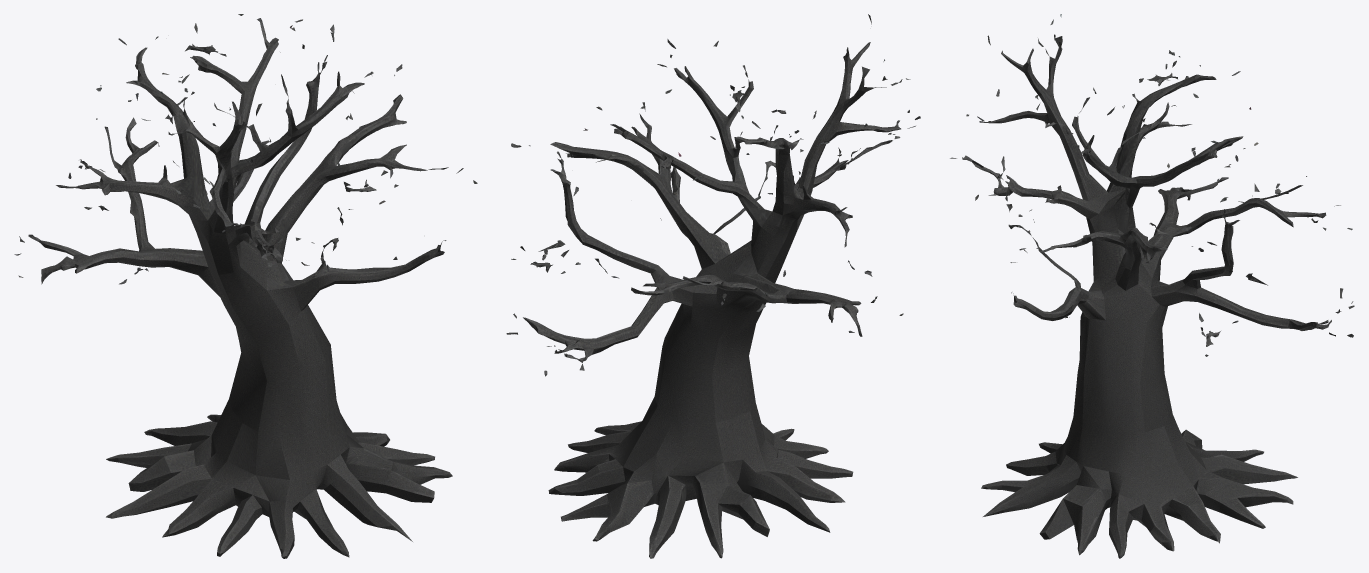
File: wh-reachtree-c-meshy.glb
3 renders of one model, left to right at view 1: azimuth 30°, elevation 25°; view 2: azimuth 150°, elevation 25°; view 3: azimuth 270°, elevation 25°, orthographic. The views are drawn at different scales.
Size of the model in its own units: 1.57 by 1.78 by 1.55.
Materials: 1 (1 with a texture image).
